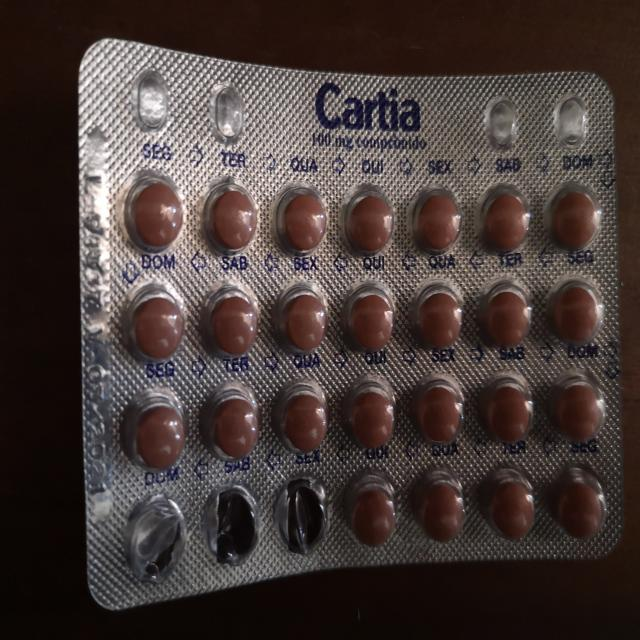Empty: (118, 497, 190, 588), (198, 482, 263, 569), (271, 473, 334, 558)
Pill: (116, 386, 190, 473), (121, 280, 189, 364), (121, 172, 186, 254), (198, 387, 266, 465), (404, 370, 469, 449), (196, 284, 260, 363), (544, 278, 608, 355), (272, 176, 331, 259), (542, 176, 602, 257), (475, 277, 535, 357), (551, 465, 614, 541), (200, 180, 262, 257), (409, 466, 471, 543), (342, 469, 402, 548), (480, 464, 542, 540), (341, 180, 397, 264), (406, 179, 464, 260), (340, 377, 400, 454), (474, 179, 532, 258), (551, 373, 608, 453), (269, 384, 333, 454), (478, 378, 538, 452), (270, 286, 332, 357), (339, 284, 398, 358), (409, 283, 465, 354), (517, 372, 518, 373)
